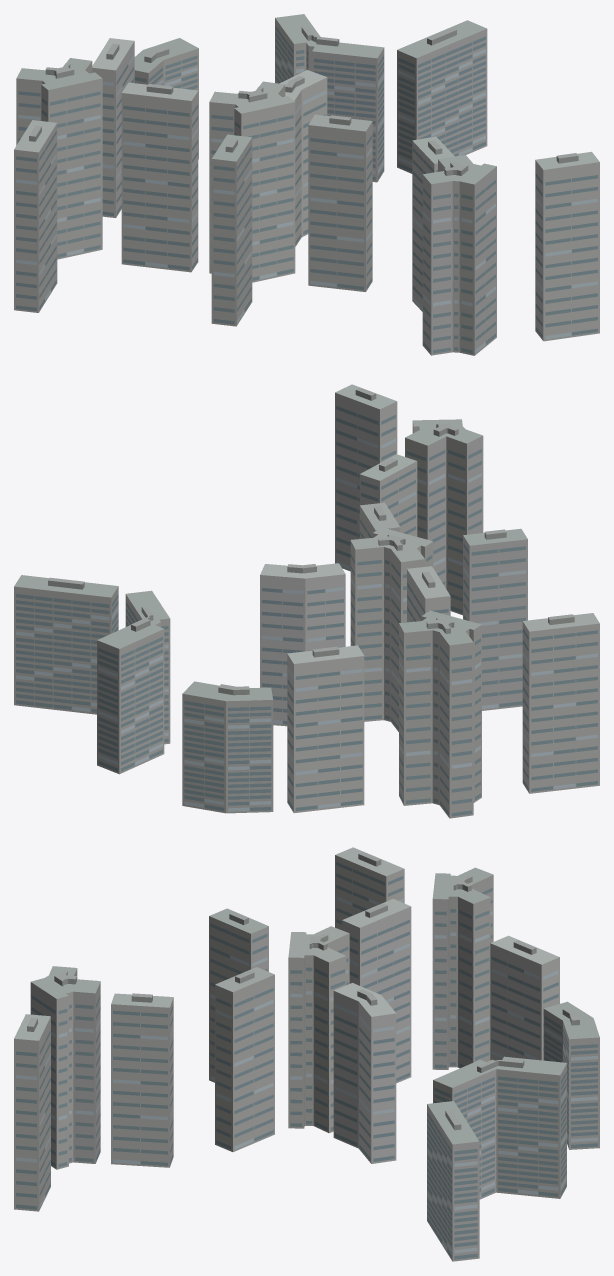
The model's file is apt-a13611011.glb.
3 views of the same model, one above another, from view 1: azimuth 30°, elevation 25°; view 2: azimuth 150°, elevation 25°; view 3: azimuth 270°, elevation 25° (orthographic).
Parts seen in each view (by area): view 1: apt-a13611011; view 2: apt-a13611011; view 3: apt-a13611011.
Boxes of the visible parts, x1,y1,x2,y2 form: apt-a13611011: (14,14,599,355); apt-a13611011: (14,384,599,818); apt-a13611011: (14,847,599,1261).
Size of the model in its own units: 254 by 82 by 248.
